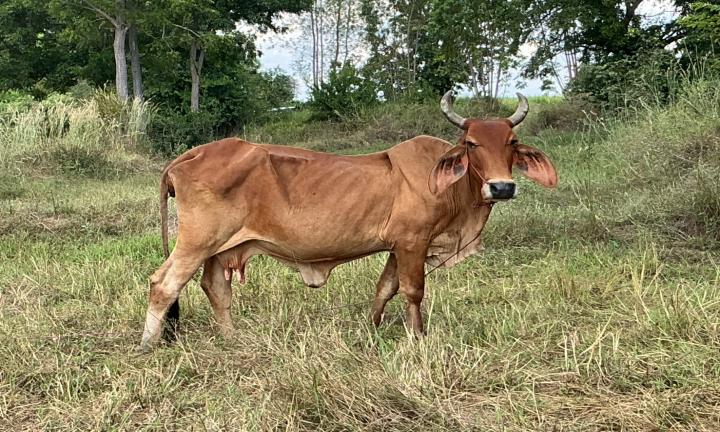Brahman: (142, 92, 558, 349)
